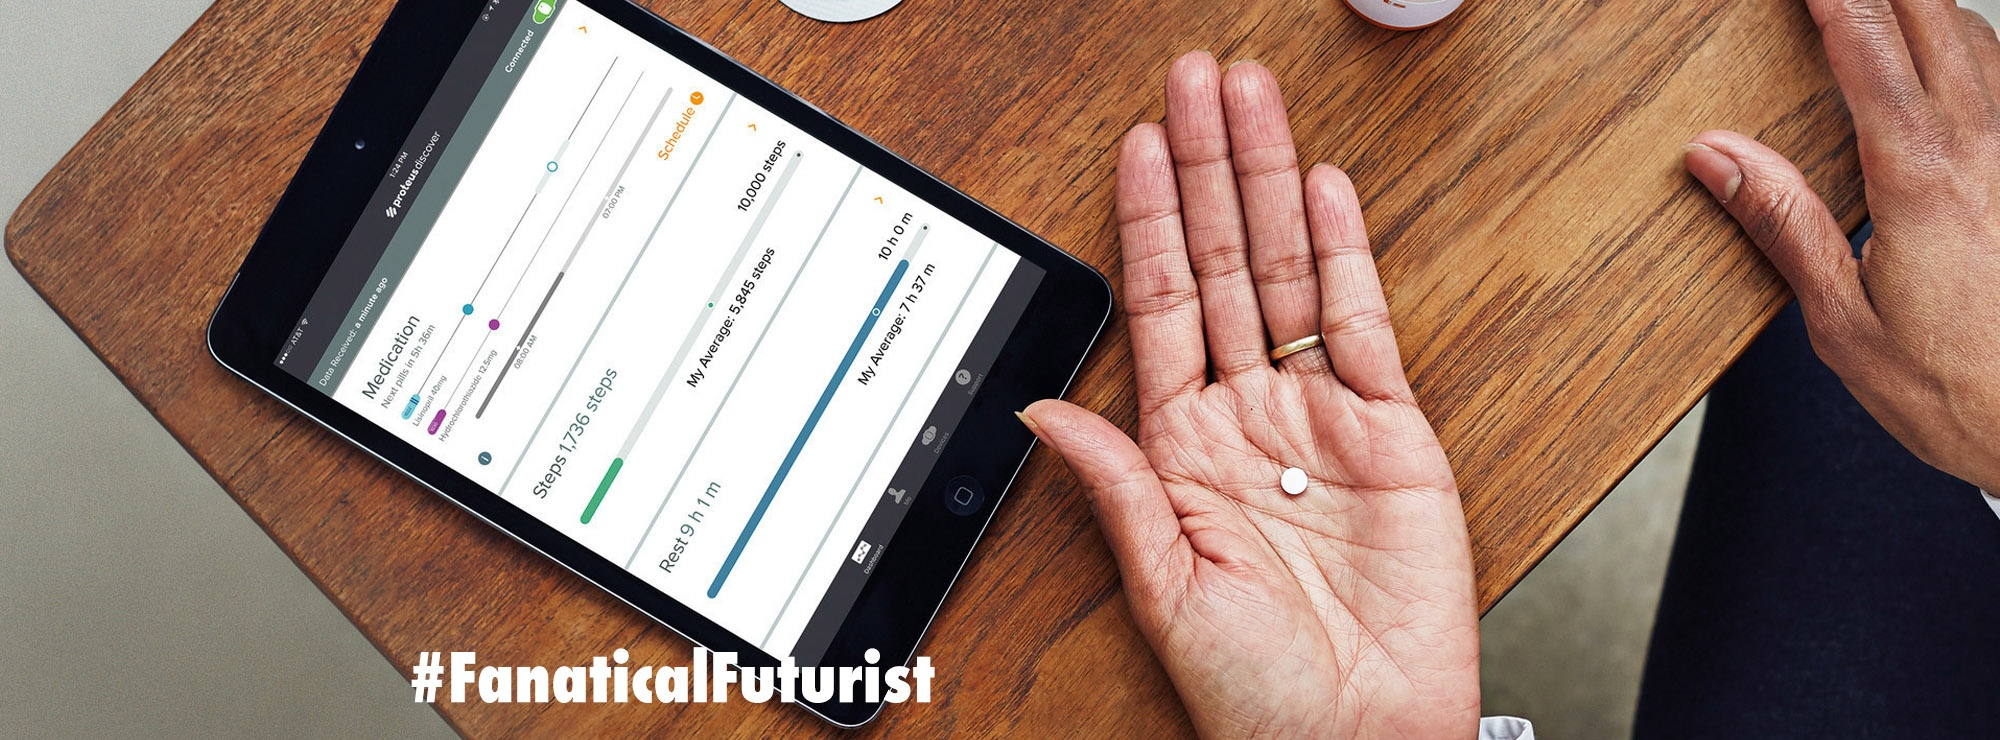pills: (1281, 461, 1321, 519)
